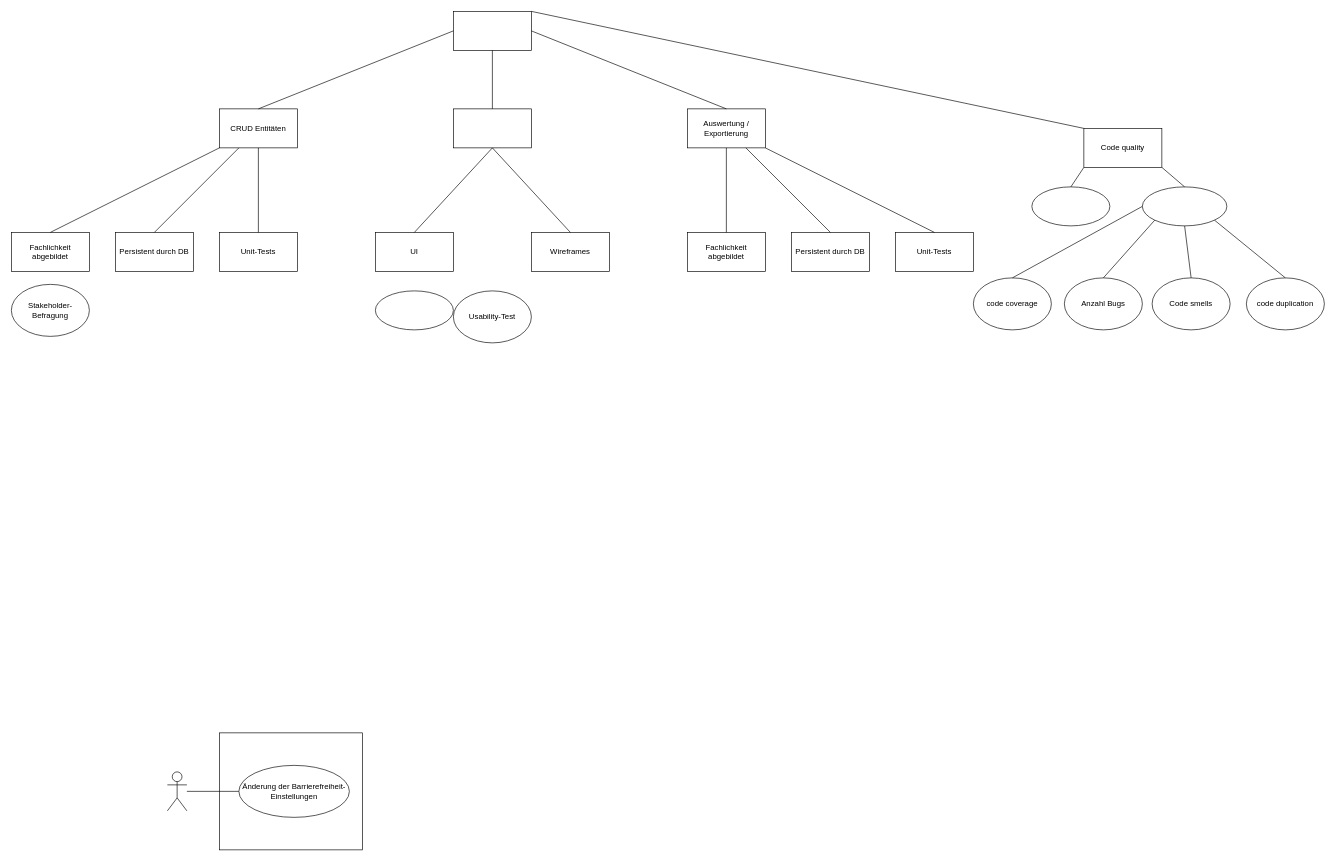
The diagram is 1336 pixels wide and 861 high, and some of its shapes have lost their labels. The shapes that lost their labels are listed below. From the top down, each one's centre as x and y in pixels, then its label:
the point at 492,30: Evaluieren
the point at 492,128: Darstellen von Relationen
the point at 1070,206: Code-Reviews
the point at 1184,206: SonarCloud
the point at 414,310: appearance consistency
the point at 177,791: User
